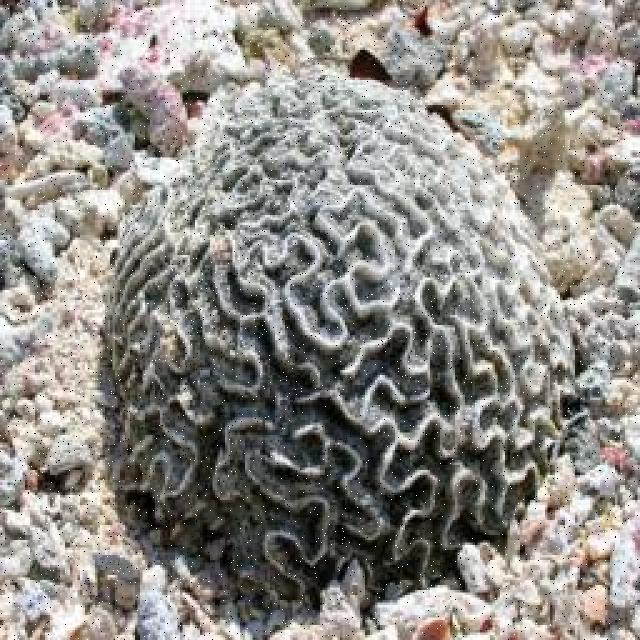reefs: (105, 60, 585, 605)
